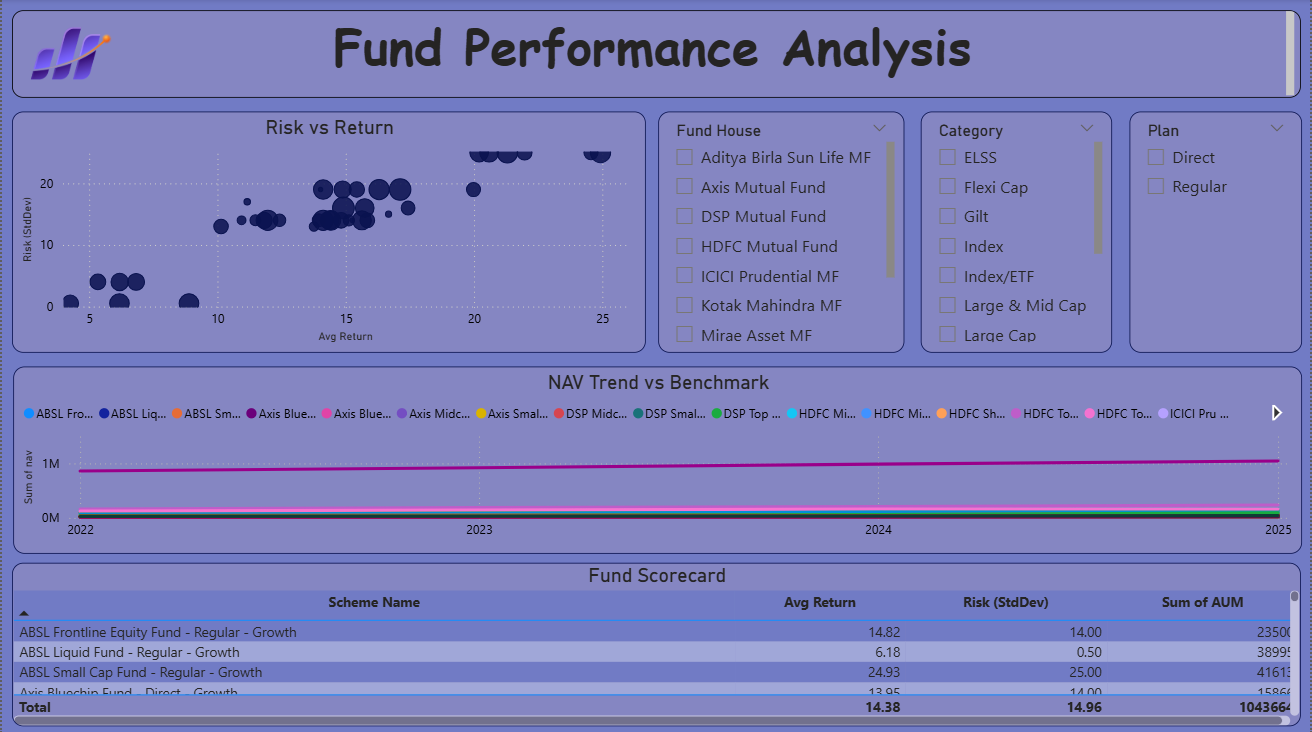

The dashboard page shown, as its layout file describes it:
{"tool":"powerbi","page":{"name":"Fund Performance","canvas":[1280,720],"ordinal":1},"visuals":[{"type":"scatterChart","title":"Risk vs Return","fields":{"X":["07_scheme_performance.Avg Return"],"Y":["07_scheme_performance.Risk (StdDev)"],"Category":["07_scheme_performance.scheme_name"],"Size":["Sum(07_scheme_performance.aum_crore)"]},"box":[9.8,110.1,620,236],"z":0},{"type":"tableEx","title":"Fund Scorecard","fields":{"Values":["07_scheme_performance.scheme_name","07_scheme_performance.Avg Return","07_scheme_performance.Risk (StdDev)","Sum(07_scheme_performance.aum_crore)"]},"box":[9.8,551.5,1260.7,160.2],"z":1000},{"type":"lineChart","title":"NAV Trend vs Benchmark","fields":{"Category":["date.Date.Variation.Date Hierarchy.Year","date.Date.Variation.Date Hierarchy.Quarter","date.Date.Variation.Date Hierarchy.Month","date.Date.Variation.Date Hierarchy.Day"],"Y":["Sum(02_nav_history.nav)"],"Series":["07_scheme_performance.scheme_name"]},"box":[11,359.5,1260.7,183.4],"z":2000},{"type":"slicer","fields":{"Values":["07_scheme_performance.fund_house"]},"box":[642,110.1,240.9,236],"z":3000},{"type":"slicer","fields":{"Values":["07_scheme_performance.category"]},"box":[898.8,110.1,187.1,236],"z":4000},{"type":"slicer","fields":{"Values":["07_scheme_performance.plan"]},"box":[1103,110.1,168.8,236],"z":5000},{"type":"textbox","box":[9.8,11,1260.7,85.6],"z":6000},{"type":"image","box":[11,1.2,108.8,103.9],"z":6001}]}

Visuals, with their boxes in screenshot pixels (x1, y1, x2, y2), scaled from the page's 1280x720 canvas onto the 1312x732 screenshot:
"Risk vs Return" scatterChart: (x1=10, y1=112, x2=646, y2=352)
"Fund Scorecard" tableEx: (x1=10, y1=561, x2=1302, y2=724)
"NAV Trend vs Benchmark" lineChart: (x1=11, y1=365, x2=1303, y2=552)
slicer - 07_scheme_performance.fund_house: (x1=658, y1=112, x2=905, y2=352)
slicer - 07_scheme_performance.category: (x1=921, y1=112, x2=1113, y2=352)
slicer - 07_scheme_performance.plan: (x1=1131, y1=112, x2=1304, y2=352)
textbox: (x1=10, y1=11, x2=1302, y2=98)
image: (x1=11, y1=1, x2=123, y2=107)
